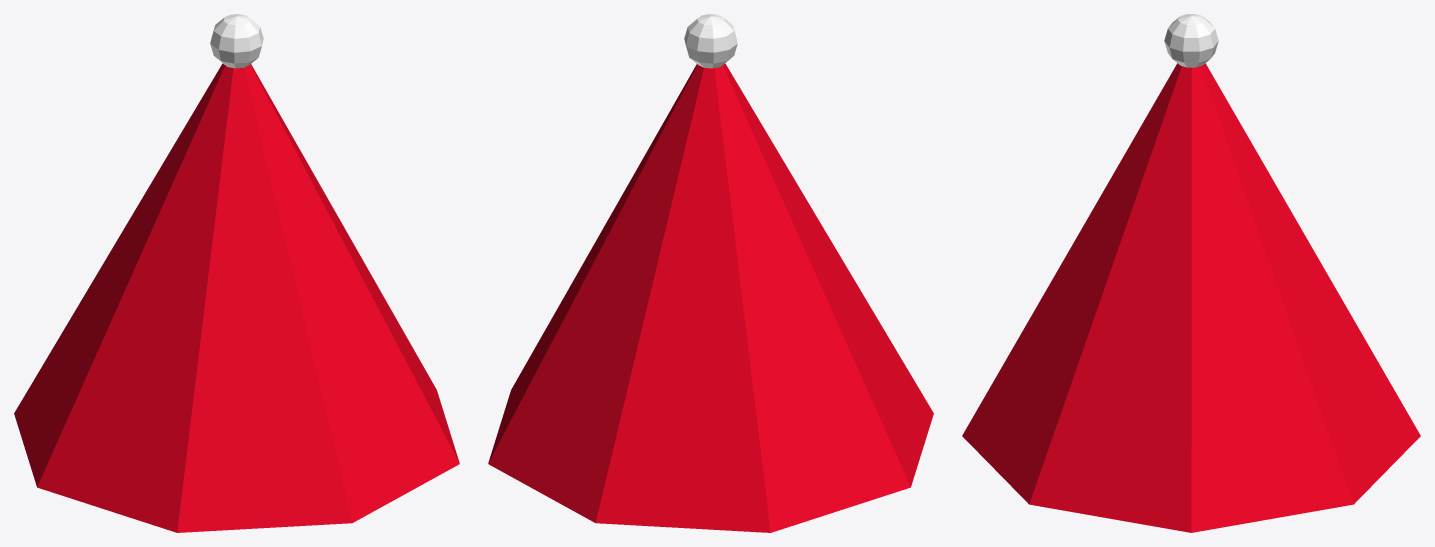
File: hat1.fbx
The picture shows the model from 3 angles, left to right: view 1: azimuth 30°, elevation 25°; view 2: azimuth 150°, elevation 25°; view 3: azimuth 270°, elevation 25°; orthographic projection.
Visible parts, largest first — view 1: Cone; view 2: Cone; view 3: Cone.
Part boxes in pixels (<box>): Cone: <box>14,14,459,532</box>; Cone: <box>488,14,933,532</box>; Cone: <box>962,14,1420,532</box>.
Bounding box in the file's own units: 150 × 151 × 150.
